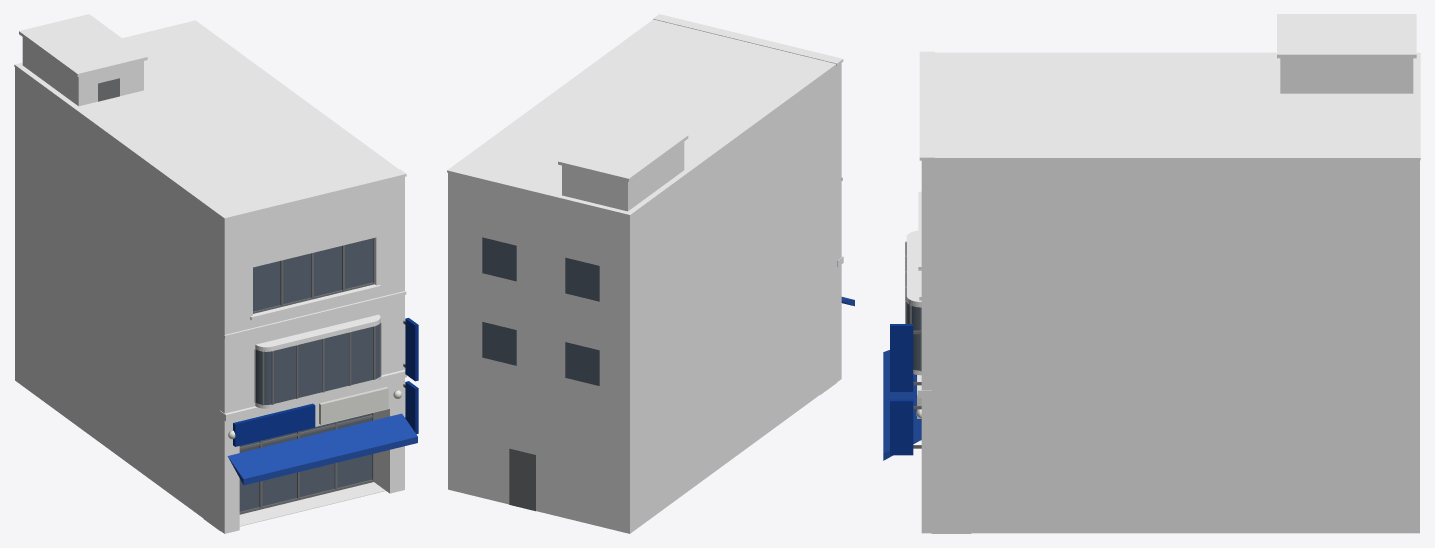
Rendered from domino114.glb.
3 views of the same model, side by side, from view 1: azimuth 30°, elevation 25°; view 2: azimuth 150°, elevation 25°; view 3: azimuth 270°, elevation 25° (orthographic). The views are drawn at different scales.
Visible parts, largest first — view 1: Domino114; view 2: Domino114; view 3: Domino114.
Part boxes in pixels (left/top/right/bottom): Domino114: left=14, top=14, right=418, bottom=533; Domino114: left=447, top=14, right=854, bottom=533; Domino114: left=883, top=14, right=1420, bottom=533.
Bounding box in the file's own units: 7.53 × 13.84 × 16.17.
